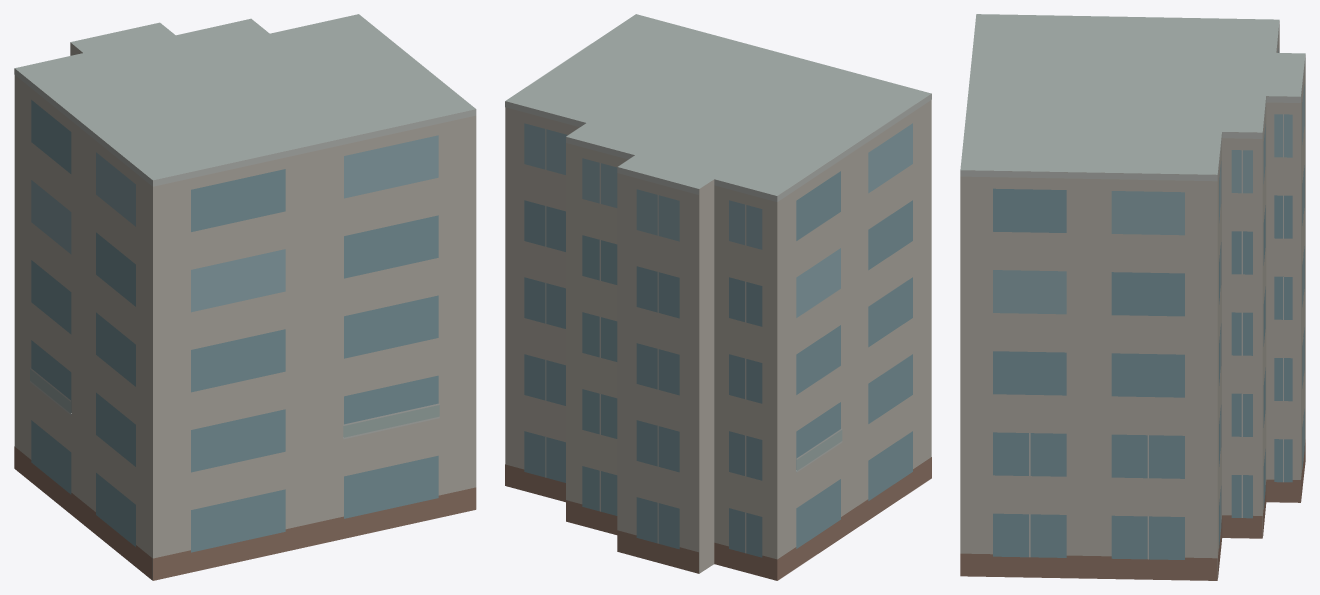
File: survey-upis-32868245.glb
The picture shows the model from 3 angles, left to right: view 1: azimuth 30°, elevation 25°; view 2: azimuth 150°, elevation 25°; view 3: azimuth 270°, elevation 25°; orthographic projection. The views are drawn at different scales.
Parts seen in each view (by area): view 1: survey-upis-32868245.tmp; view 2: survey-upis-32868245.tmp; view 3: survey-upis-32868245.tmp.
Part boxes in pixels (bbox=[...]): survey-upis-32868245.tmp: bbox=[14, 14, 476, 580]; survey-upis-32868245.tmp: bbox=[505, 14, 931, 580]; survey-upis-32868245.tmp: bbox=[960, 14, 1305, 580].
Bounding box in the file's own units: 13.09 × 15.4 × 11.88.
